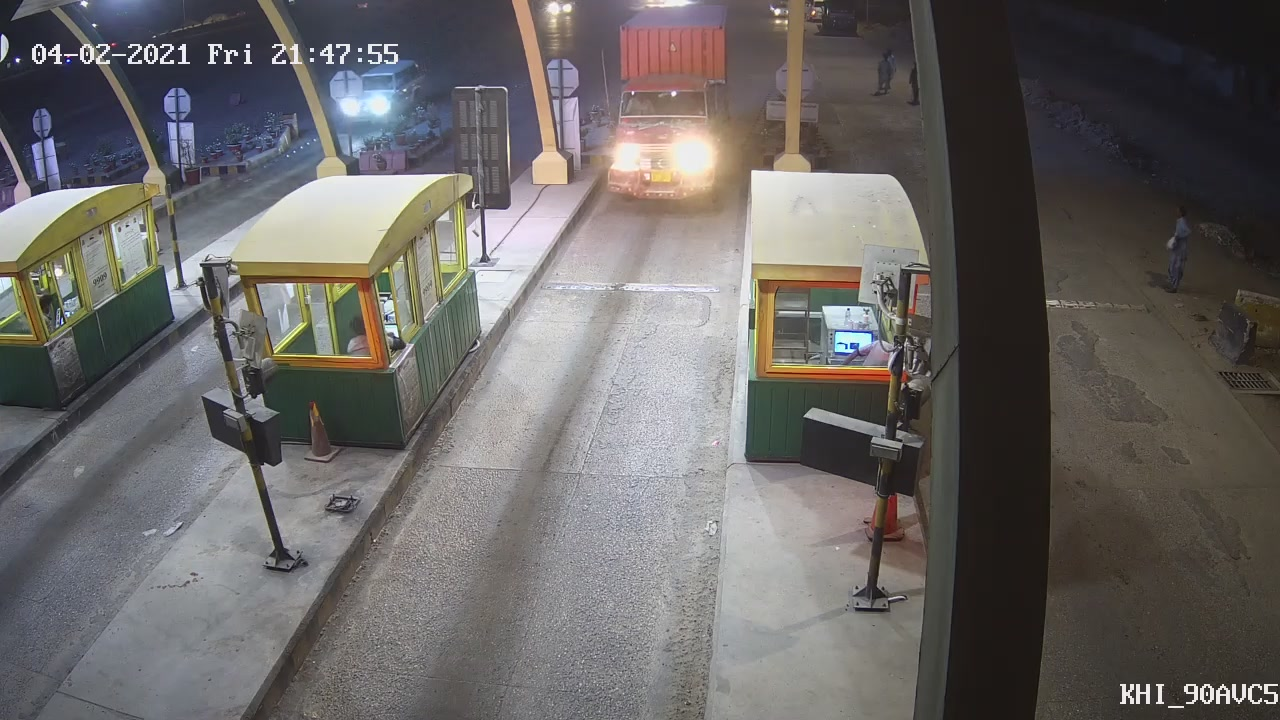F6: (602, 1, 739, 206)
